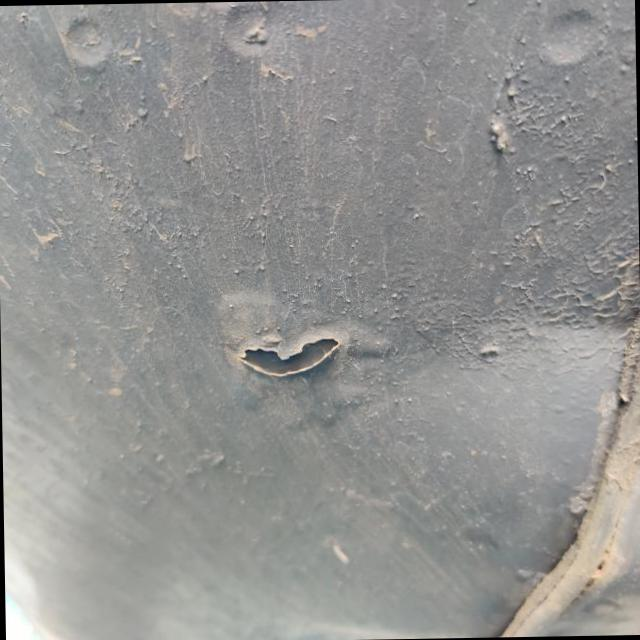Paint-off: (227, 326, 347, 377)
